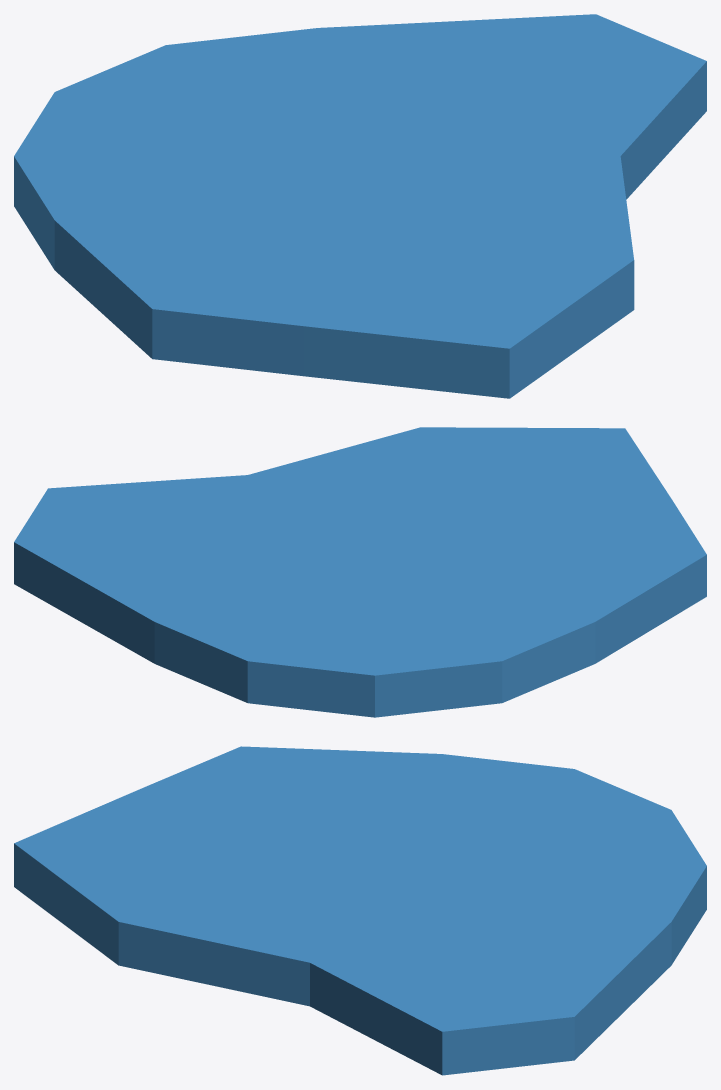
Rendered from oasis.fbx.
The picture shows the model from 3 angles, top to bottom: view 1: azimuth 30°, elevation 25°; view 2: azimuth 150°, elevation 25°; view 3: azimuth 270°, elevation 25°; orthographic projection. The views are drawn at different scales.
Parts seen in each view (by area): view 1: Cylinder; view 2: Cylinder; view 3: Cylinder.
Part boxes in pixels (left/top/right/bottom): Cylinder: left=14, top=14, right=706, bottom=398; Cylinder: left=14, top=427, right=706, bottom=717; Cylinder: left=14, top=746, right=706, bottom=1075.
Bounding box in the file's own units: 255 × 18.21 × 262.
